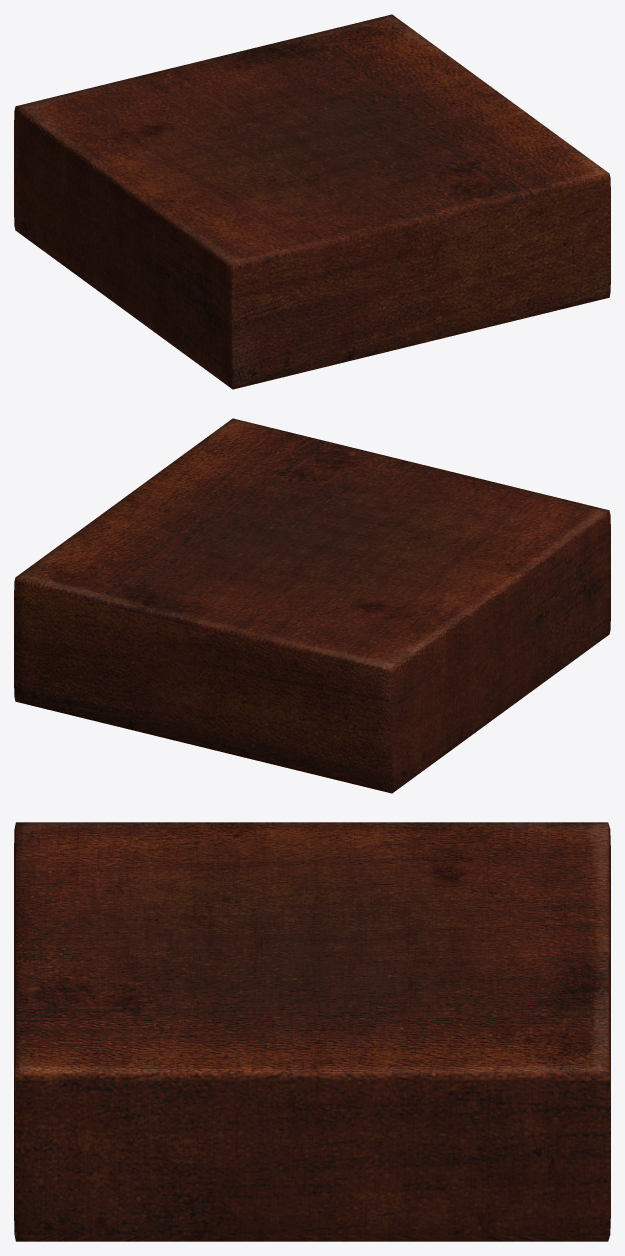
File: podstavka.FBX
3 views of the same model, one above another, from view 1: azimuth 30°, elevation 25°; view 2: azimuth 150°, elevation 25°; view 3: azimuth 270°, elevation 25° (orthographic). The views are drawn at different scales.
Visible parts, largest first — view 1: podstavka; view 2: podstavka; view 3: podstavka.
Part boxes in pixels (left/top/right/bottom): podstavka: left=14, top=14, right=610, bottom=389; podstavka: left=14, top=418, right=610, bottom=793; podstavka: left=14, top=822, right=610, bottom=1241.
Size of the model in its own units: 0.13 by 0.0406 by 0.13.
Materials: 1 (1 with a texture image).
